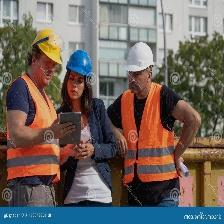Person: (105, 40, 203, 206), (5, 26, 64, 207), (60, 49, 117, 206)
helmet: (30, 29, 62, 65), (126, 41, 155, 75), (66, 49, 95, 80)
no-vest: (62, 98, 110, 176)
vest: (121, 87, 177, 182), (4, 75, 54, 179)
